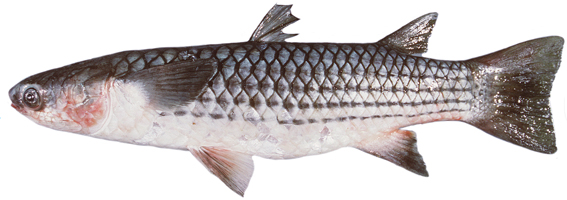fish: (8, 4, 565, 200)
